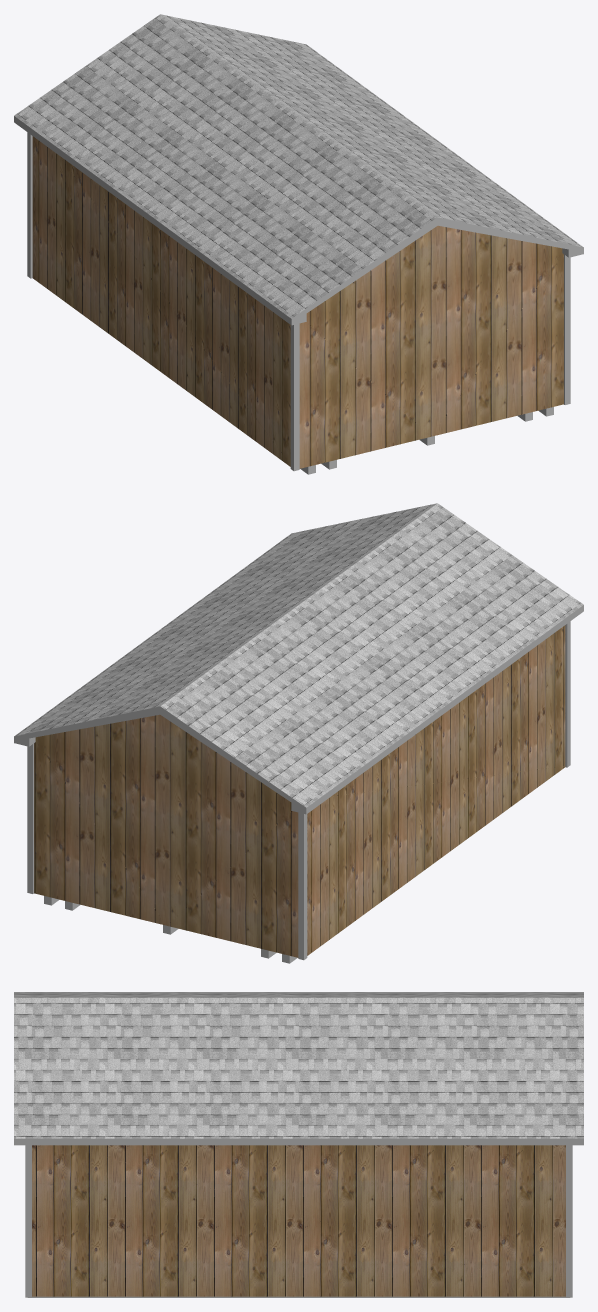
The model's file is Classic A-Frame_12x20.obj.
3 views of the same model, one above another, from view 1: azimuth 30°, elevation 25°; view 2: azimuth 150°, elevation 25°; view 3: azimuth 270°, elevation 25° (orthographic). The views are drawn at different scales.
Parts seen in each view (by area): view 1: Shed, Roof, Sides, Trim; view 2: Shed, Roof, Sides, Trim; view 3: Roof, Shed, Sides, Trim, Floor.
Boxes of the visible parts, bbox=[...] form: Shed: bbox=[32, 136, 563, 468]; Roof: bbox=[14, 14, 583, 318]; Sides: bbox=[14, 116, 583, 325]; Trim: bbox=[27, 132, 570, 471]; Shed: bbox=[34, 625, 565, 957]; Roof: bbox=[14, 503, 583, 807]; Sides: bbox=[14, 605, 583, 814]; Trim: bbox=[27, 621, 570, 960]; Roof: bbox=[14, 992, 583, 1138]; Shed: bbox=[32, 1145, 565, 1296]; Sides: bbox=[14, 1138, 583, 1145]; Trim: bbox=[25, 1145, 572, 1297]; Floor: bbox=[28, 1296, 569, 1297].
Bounding box in the file's own units: 3.9 × 2.96 × 6.4.
